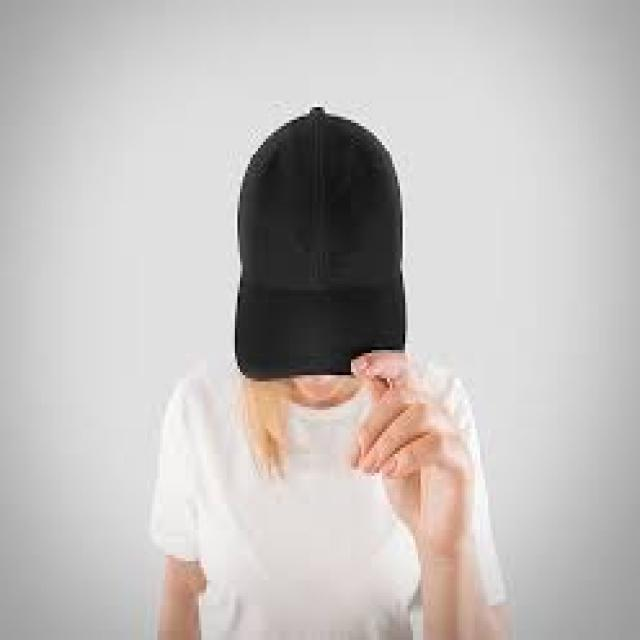cap: (218, 88, 442, 396)
